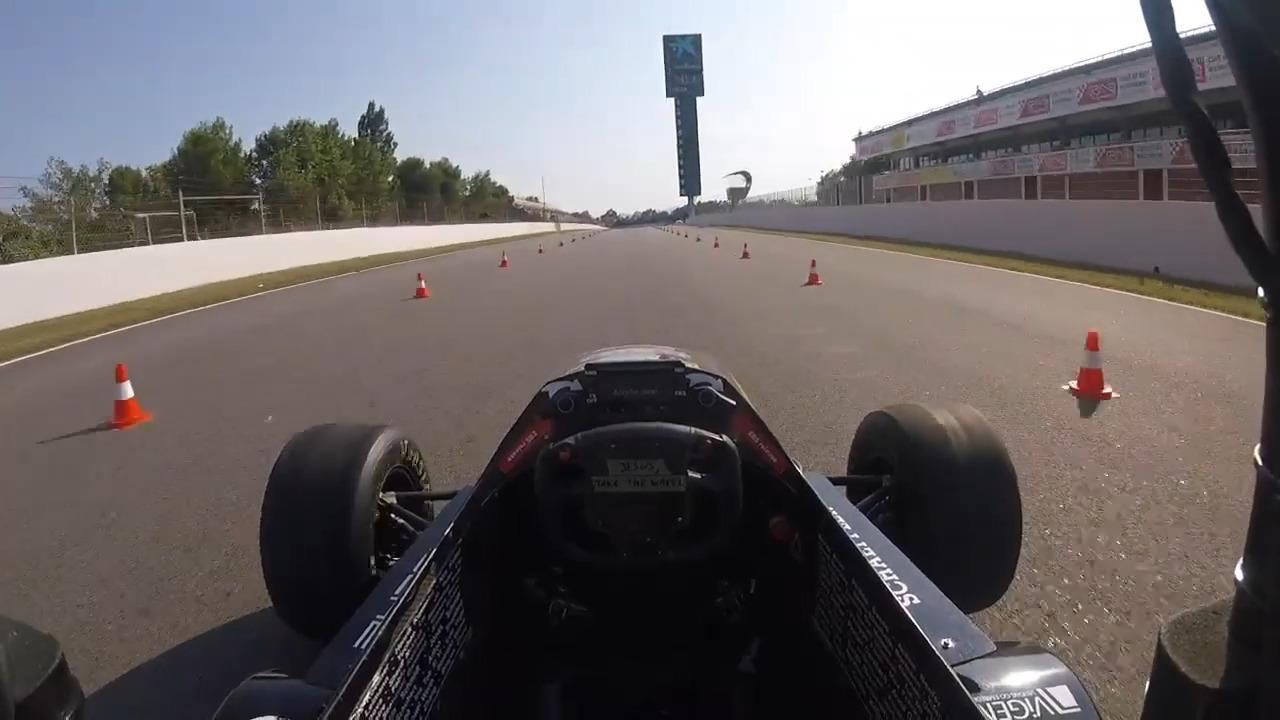orange_cone: (1062, 329, 1120, 401), (105, 363, 151, 431), (806, 259, 825, 286), (414, 271, 430, 299), (500, 250, 510, 267), (742, 242, 751, 259)
